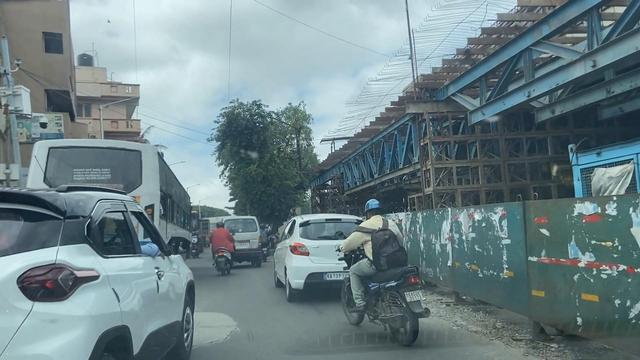LMV: (349, 209, 418, 338), (208, 219, 237, 276)
RoadDamages: (195, 310, 237, 351)
